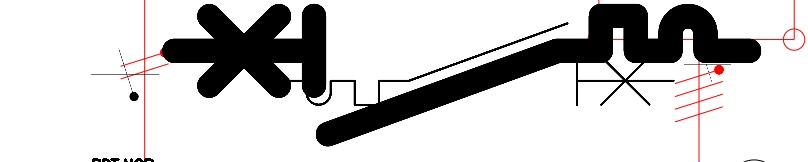interruptor_termomagnetico: (159, 1, 764, 149), (266, 13, 684, 115)
